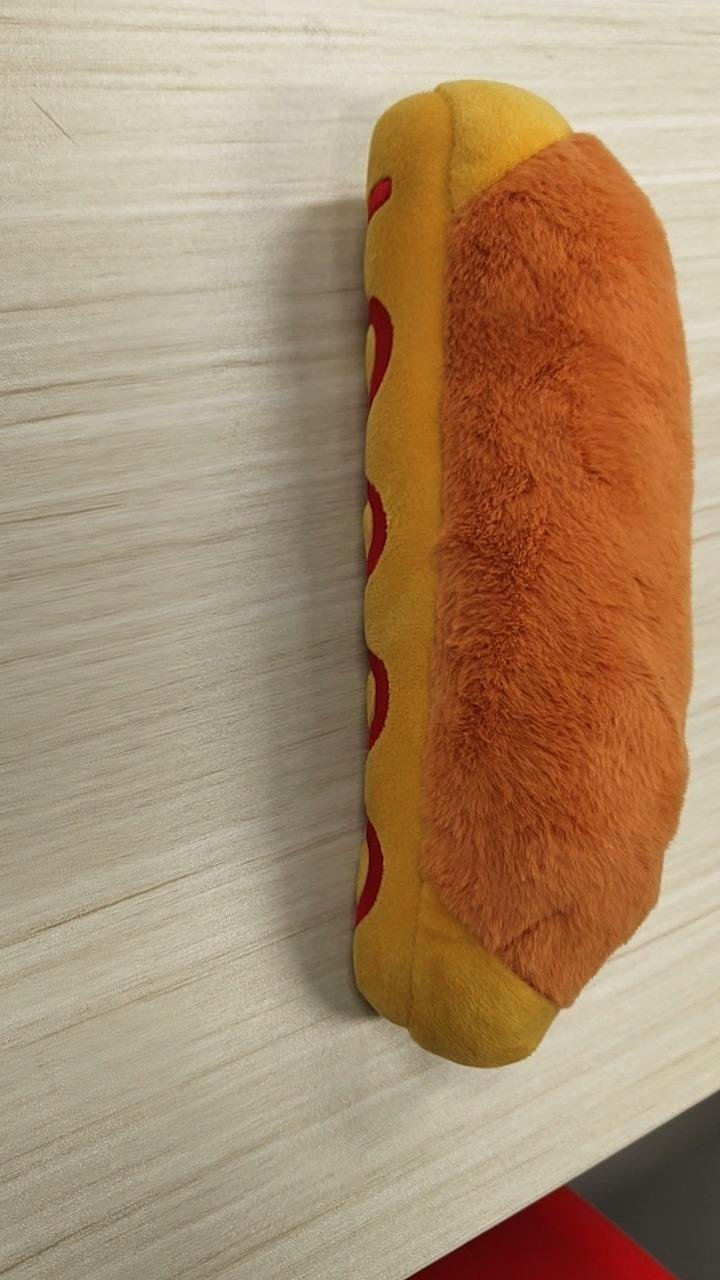hotdog: (351, 77, 695, 1068)
